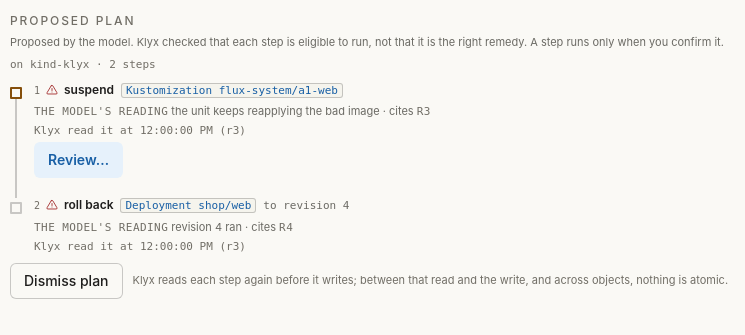
Test: ActionCard › says why Klyx did not offer the step on Review, and reads the plan again
Click the button with test id "act-review" at (78,160), box [34, 142, 123, 178]
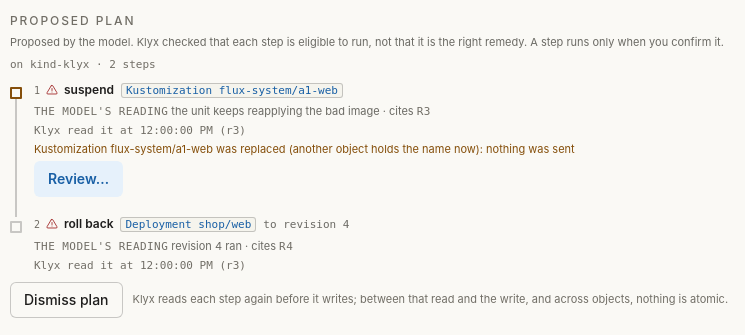
Result: the message with test id "act-note" shows "was replaced" at [34, 142, 575, 156]
